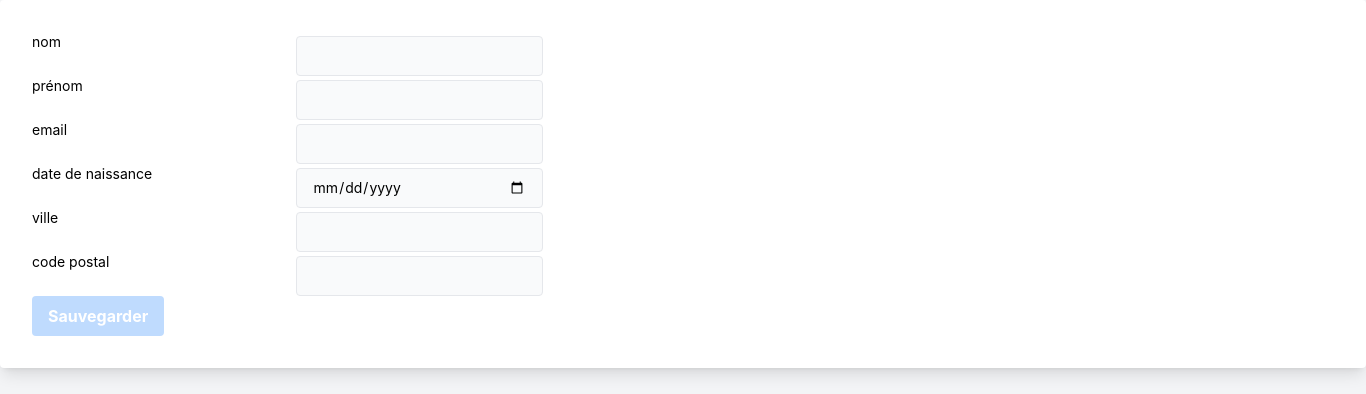
Test: Formulaire component › enable submit button
The image size is (1366, 394).
Type "Noufou" into the field with test id "nom" at (419, 56), box [296,36,543,76]
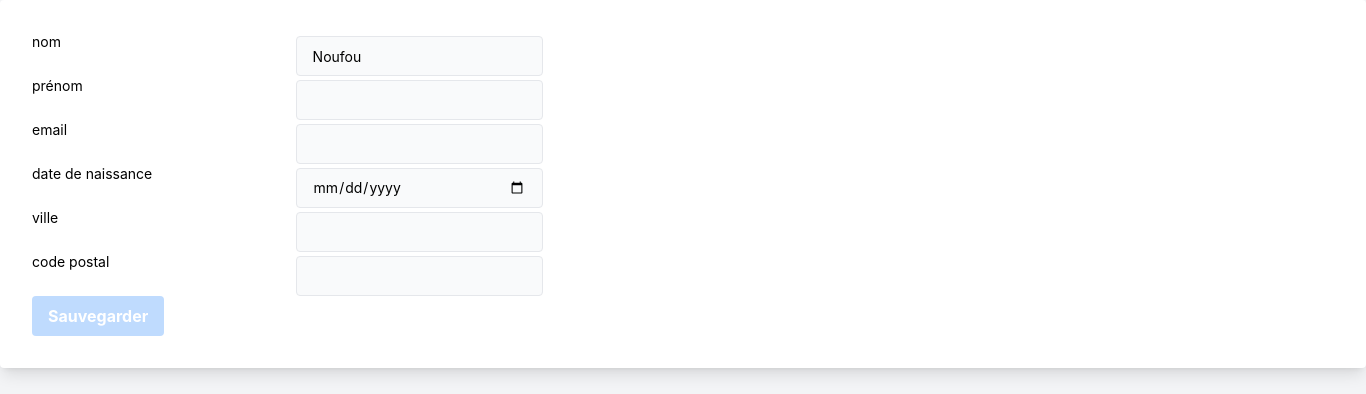
Type "Idayat" into the field with test id "prenom" at (419, 100), box [296,80,543,120]
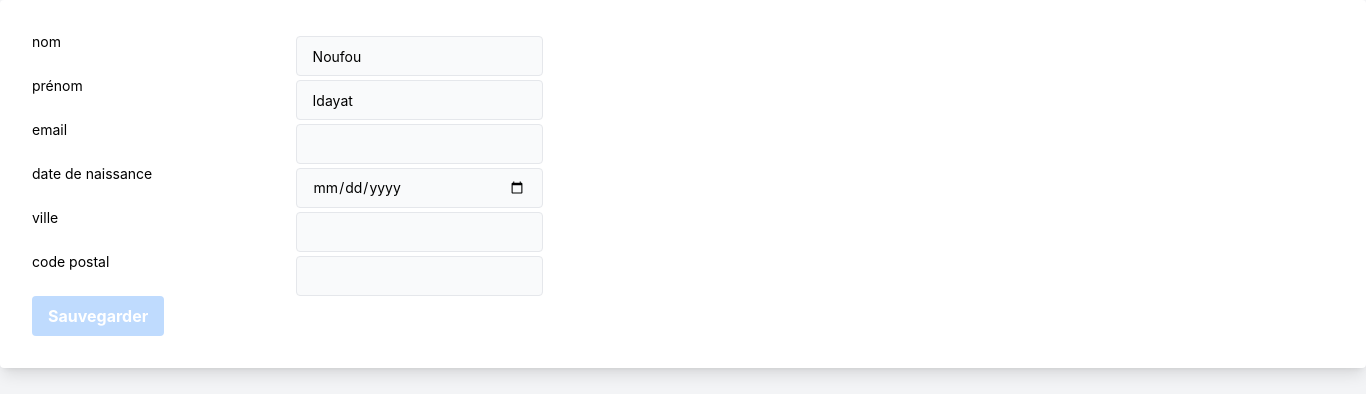
Type "nouf.ida@example.com" into the field with test id "email" at (419, 144), box [296,124,543,164]
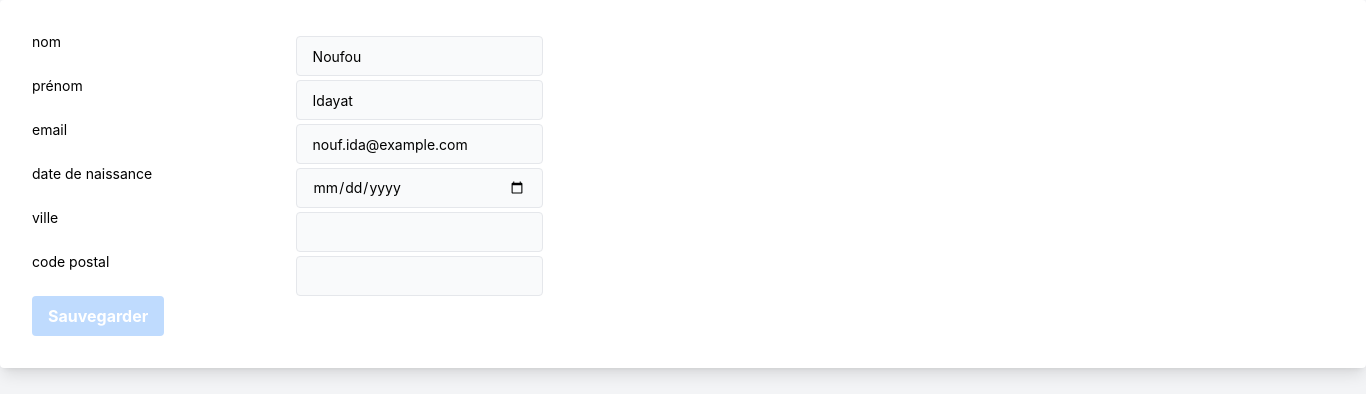
Type "2000-01-01" into the date field with test id "date" at (419, 188), box [296,168,543,208]
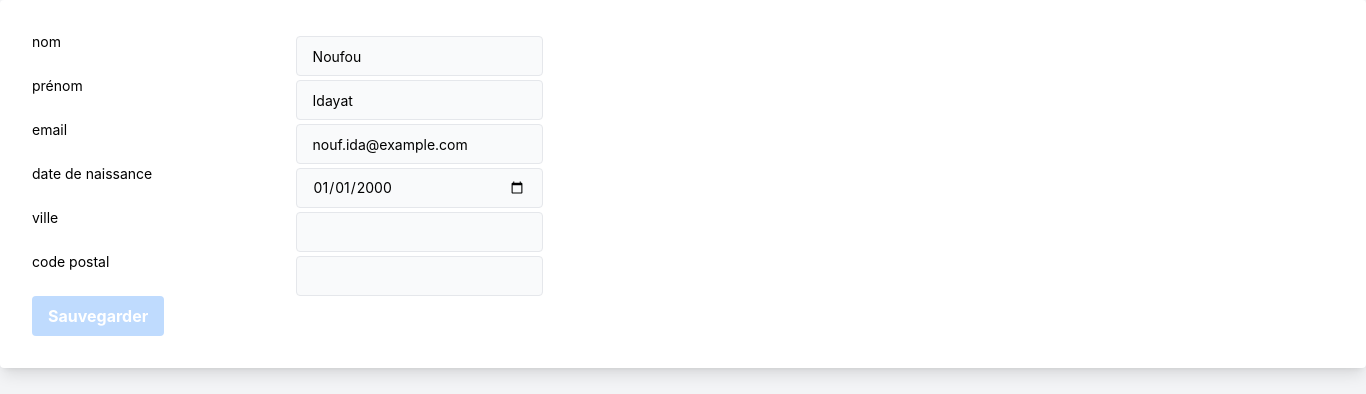
Type "Paris" into the field with test id "ville" at (419, 232), box [296,212,543,252]
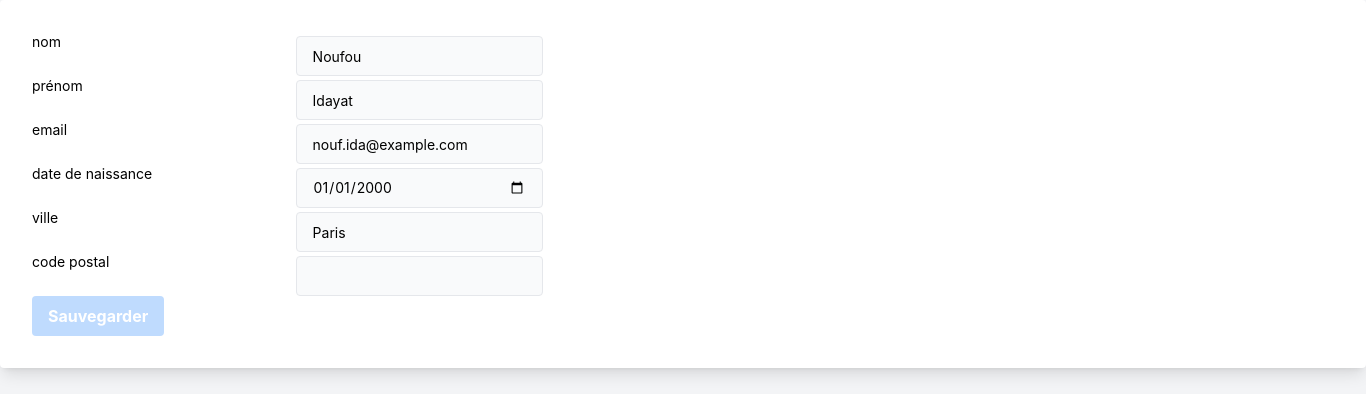
Type "75001" into the field with test id "code" at (419, 276), box [296,256,543,296]
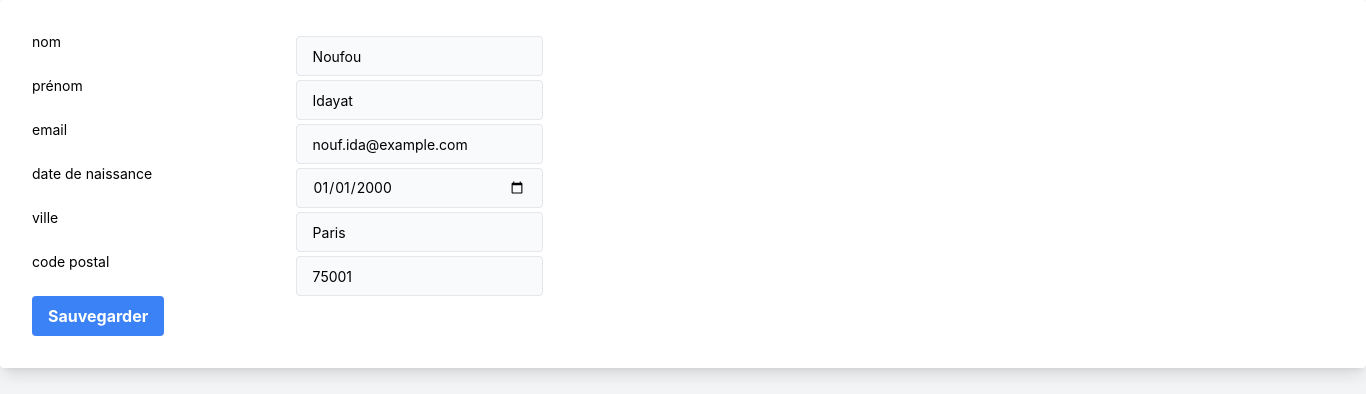
Expected: the button "Sauvegarder" is enabled, [32,296,164,336]
